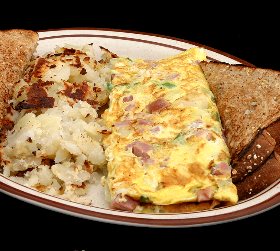soup: (198, 59, 280, 196)
